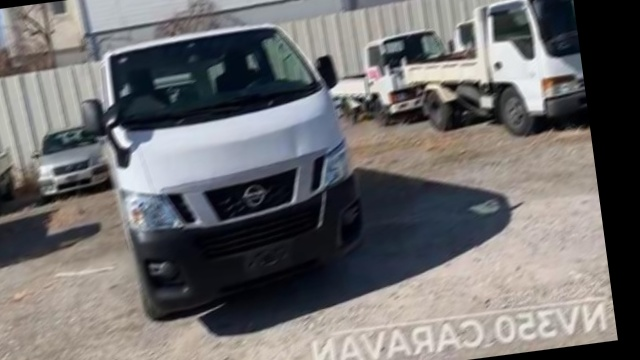van: (94, 14, 369, 328)
